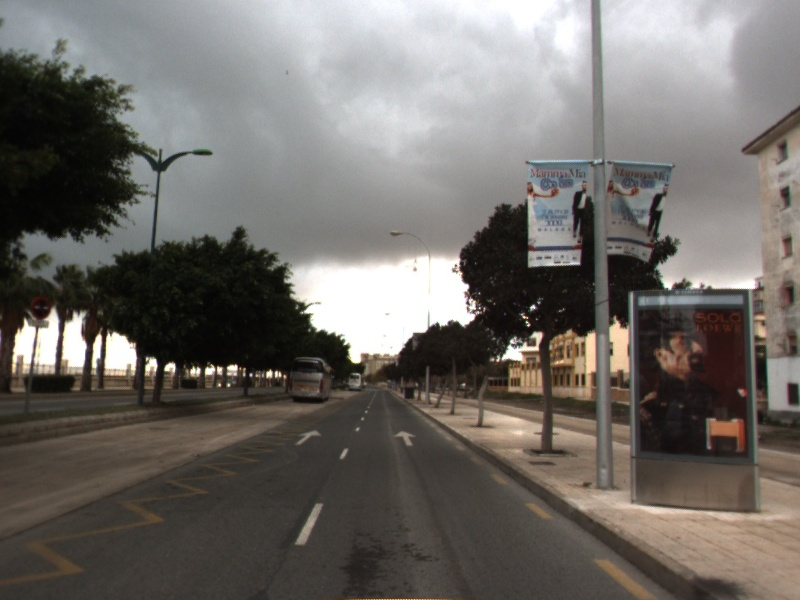STRAIGHT: (292, 428, 324, 447), (391, 428, 420, 448)
